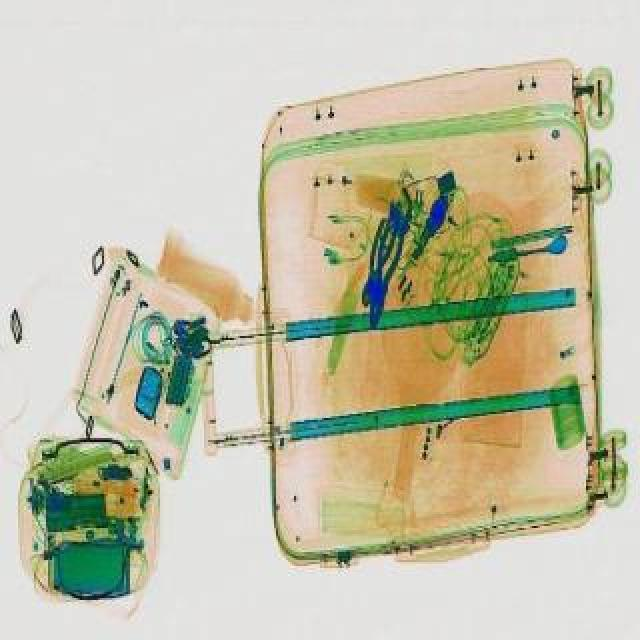wrench: (358, 216, 410, 332), (354, 214, 402, 306)
